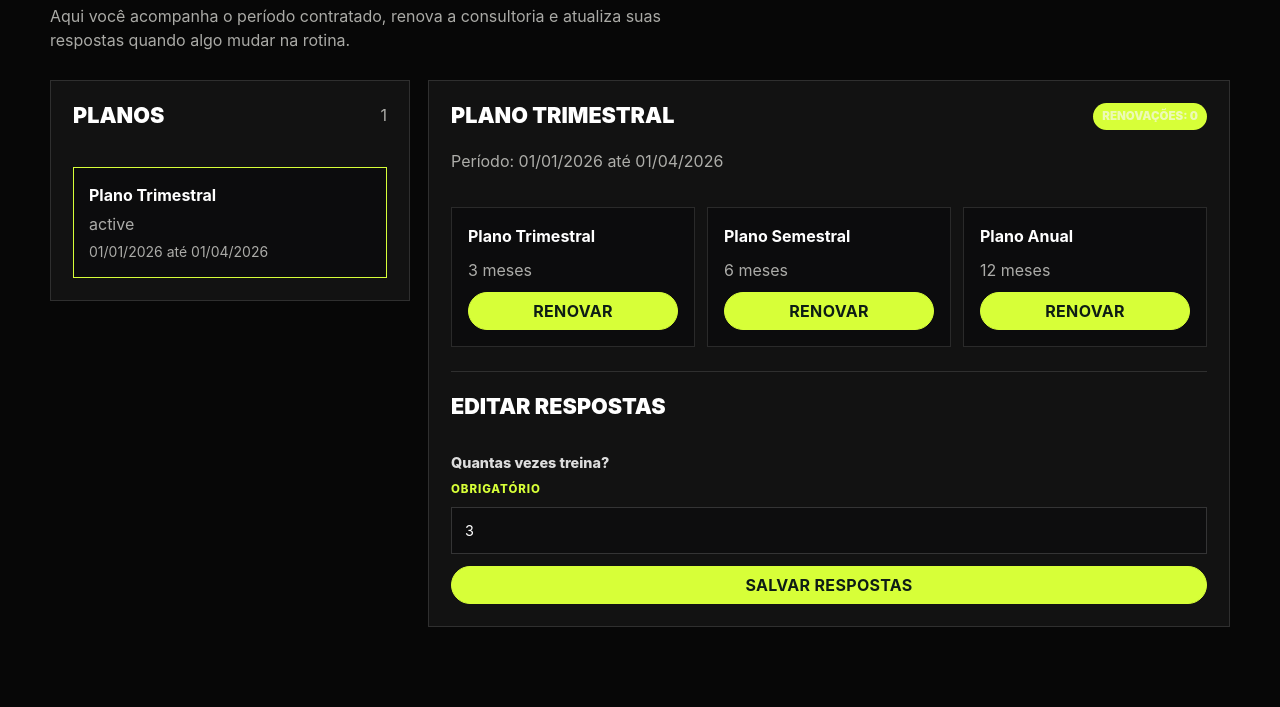
SubscriberArea › shows required-question errors when saving
The image size is (1280, 707).
(page scrolled)
Step 1. Click the button "Salvar respostas" → (829, 585), box [451,566,1207,604]
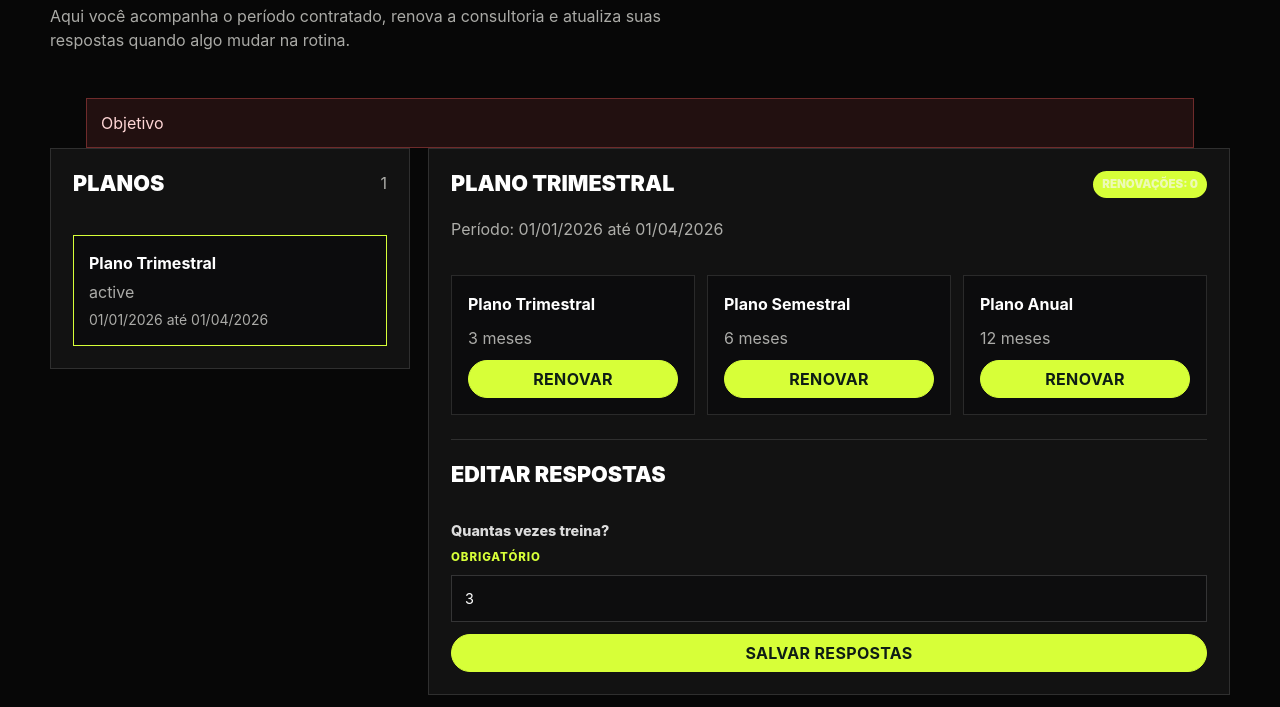
Result: the text "Objetivo" is shown at [86,98,1194,148]
